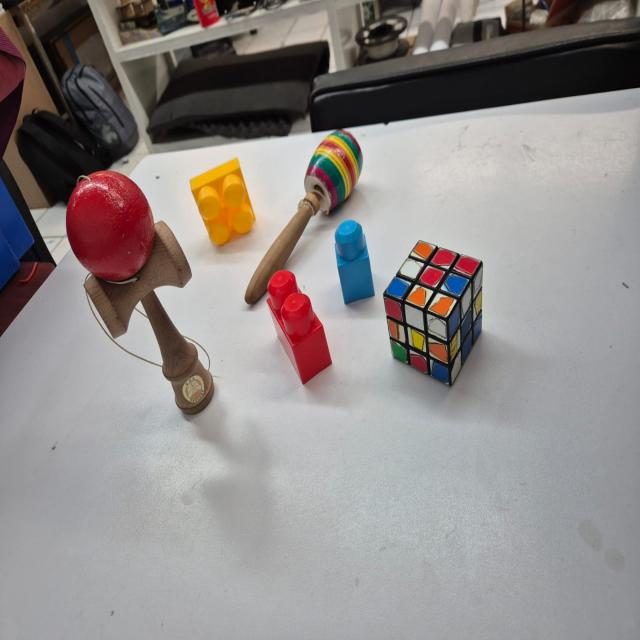balero: (243, 126, 364, 306)
balero ball: (62, 166, 216, 418)
lego 2: (266, 271, 332, 385)
lego 4: (190, 157, 254, 246)
lego_1: (335, 220, 374, 304)
rubick: (382, 239, 483, 386)
